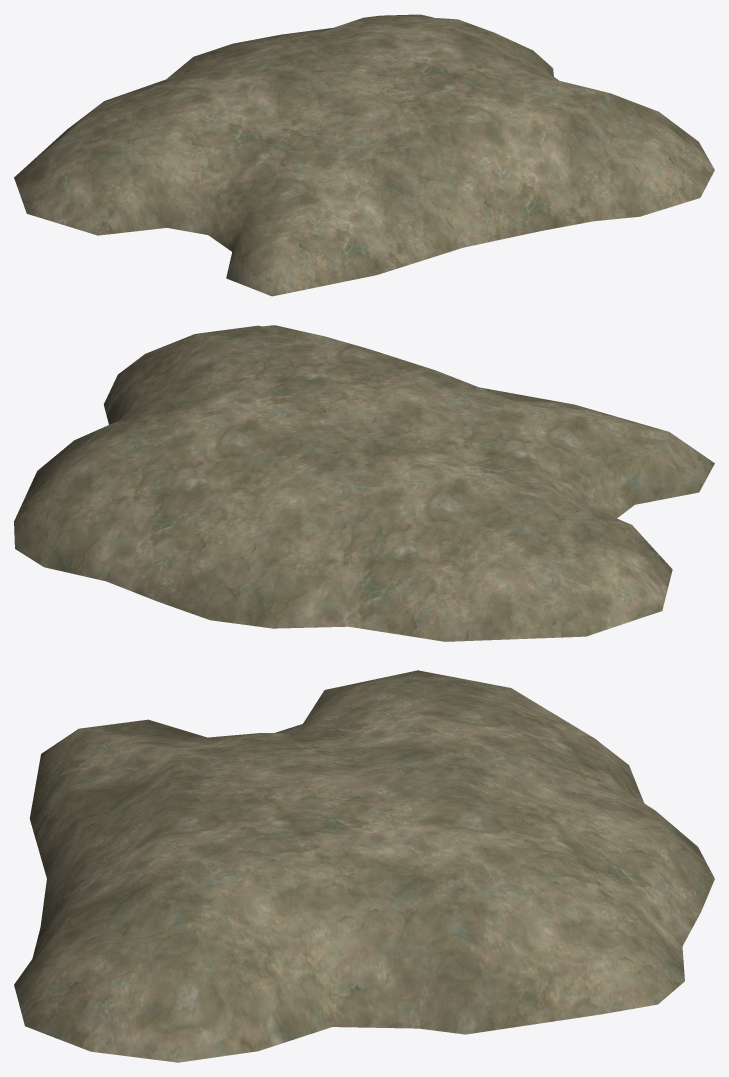
File: OVERHILL_A_01_CHIMNEY_CAVE_ROOF.fbx
3 views of the same model, one above another, from view 1: azimuth 30°, elevation 25°; view 2: azimuth 150°, elevation 25°; view 3: azimuth 270°, elevation 25° (orthographic). The views are drawn at different scales.
Parts seen in each view (by area): view 1: OVERHILL_A_01_CHIMNEY_CAVE_ROOF; view 2: OVERHILL_A_01_CHIMNEY_CAVE_ROOF; view 3: OVERHILL_A_01_CHIMNEY_CAVE_ROOF.
Boxes of the visible parts, box(x1,y1,x2,y2) form: OVERHILL_A_01_CHIMNEY_CAVE_ROOF: box(14, 14, 714, 296); OVERHILL_A_01_CHIMNEY_CAVE_ROOF: box(14, 325, 714, 641); OVERHILL_A_01_CHIMNEY_CAVE_ROOF: box(14, 670, 714, 1062).
Bounding box in the file's own units: 124613 × 16118 × 99036.
1 material, 1 textured.
